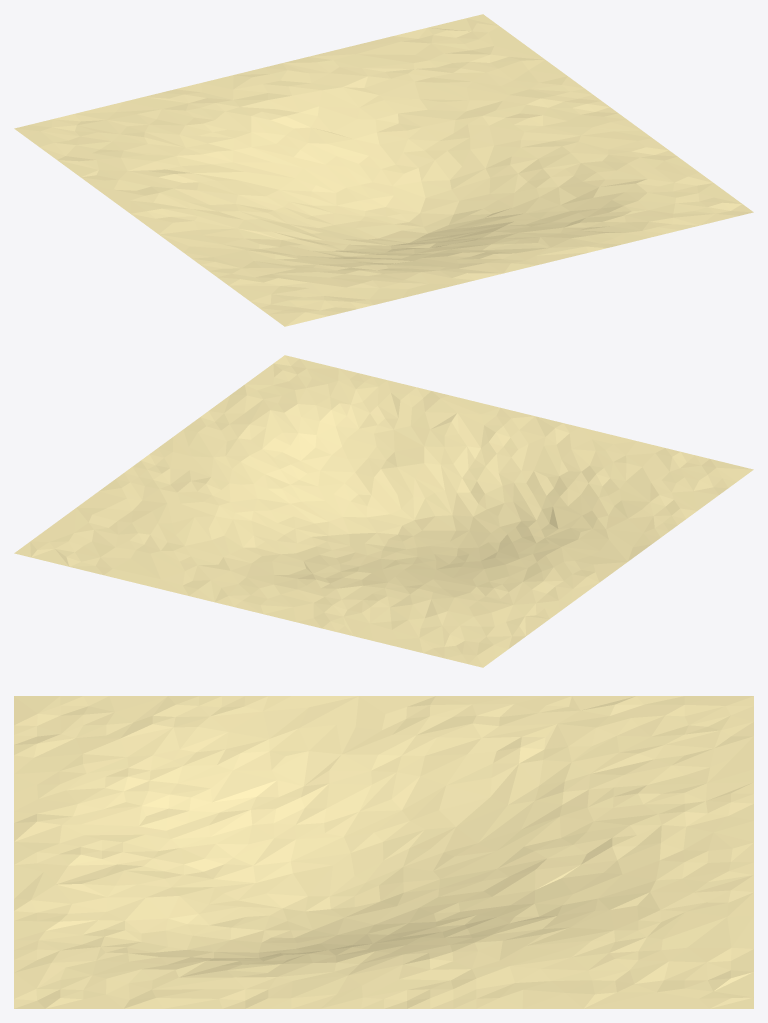
The model's file is Terrain_m_04.fbx.
3 views of the same model, one above another, from view 1: azimuth 30°, elevation 25°; view 2: azimuth 150°, elevation 25°; view 3: azimuth 270°, elevation 25° (orthographic). The views are drawn at different scales.
Parts seen in each view (by area): view 1: Terrain_m_04; view 2: Terrain_m_04; view 3: Terrain_m_04.
Boxes of the visible parts, x1=… form: Terrain_m_04: x1=14, y1=14, x2=753, y2=326; Terrain_m_04: x1=14, y1=355, x2=753, y2=667; Terrain_m_04: x1=14, y1=696, x2=753, y2=1008.
Bounding box in the file's own units: 10000 × 813 × 10000.
